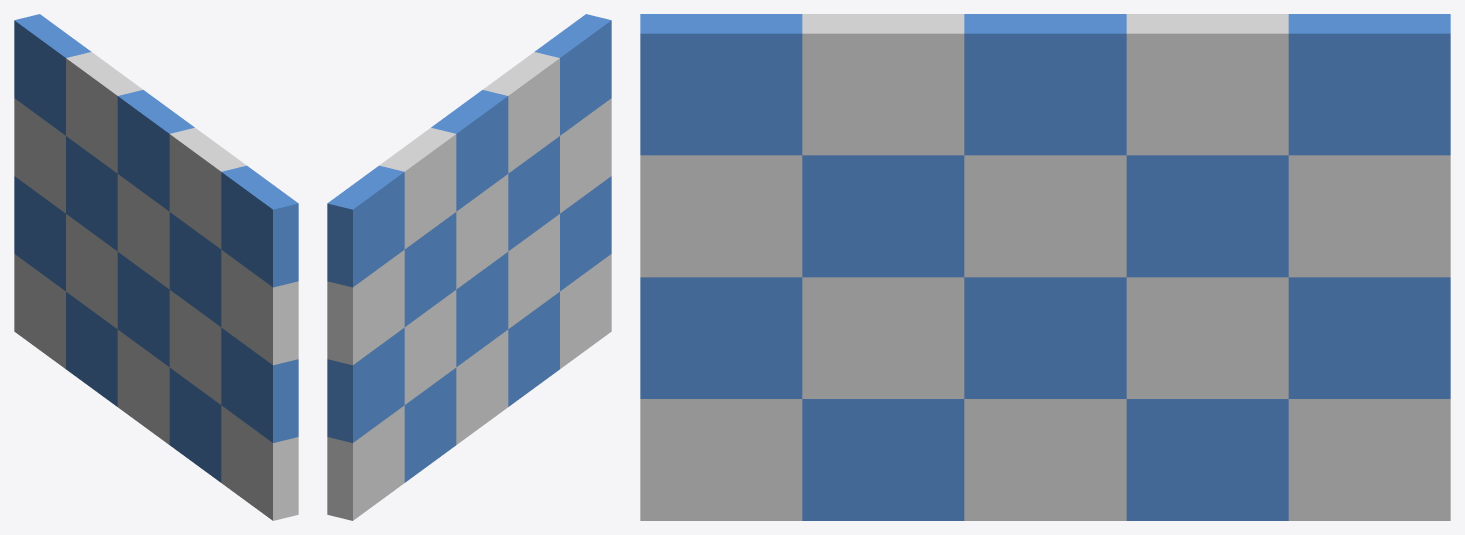
The model's file is Finish Board.fbx.
3 views of the same model, side by side, from view 1: azimuth 30°, elevation 25°; view 2: azimuth 150°, elevation 25°; view 3: azimuth 270°, elevation 25° (orthographic). The views are drawn at different scales.
Parts seen in each view (by area): view 1: Finish Board; view 2: Finish Board; view 3: Finish Board.
Part boxes in pixels (x1,y1,x2,y2): Finish Board: [14, 14, 298, 520]; Finish Board: [327, 14, 611, 520]; Finish Board: [640, 14, 1450, 520].
Bounding box in the file's own units: 39.56 × 460 × 693.
